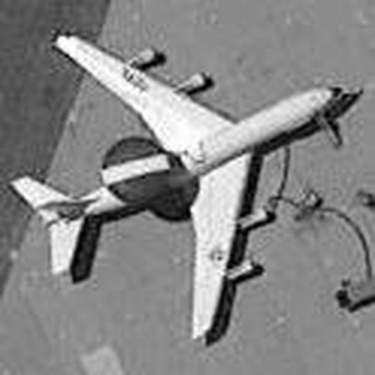airplane: (5, 27, 349, 344)
